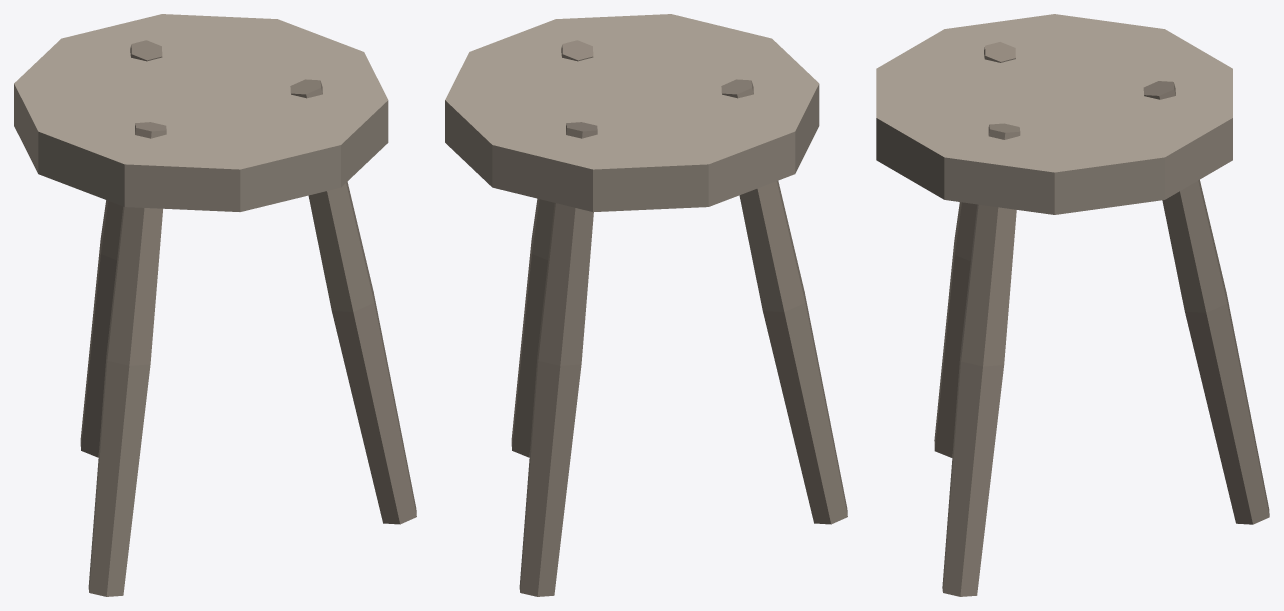
File: prop_stool.glb
The picture shows the model from 3 angles, left to right: view 1: azimuth 30°, elevation 25°; view 2: azimuth 150°, elevation 25°; view 3: azimuth 270°, elevation 25°; orthographic projection.
Parts seen in each view (by area): view 1: Stool; view 2: Stool; view 3: Stool.
Boxes of the visible parts, x1,y1,x2,y2 form: Stool: [14, 14, 416, 596]; Stool: [445, 14, 847, 596]; Stool: [876, 14, 1269, 596].
Size of the model in its own units: 0.3664 by 0.4601 by 0.3775.
